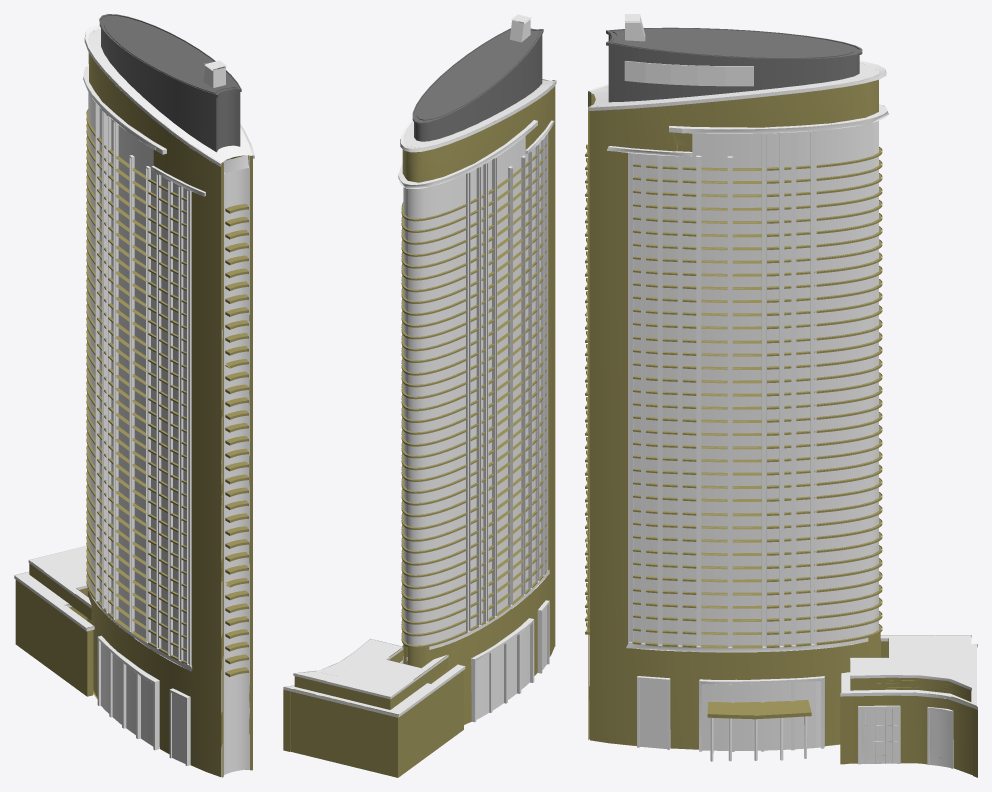
Rendered from address_mall.glb.
3 views of the same model, side by side, from view 1: azimuth 30°, elevation 25°; view 2: azimuth 150°, elevation 25°; view 3: azimuth 270°, elevation 25° (orthographic). The views are drawn at different scales.
Parts seen in each view (by area): view 1: Address Mall_02 - Default_0, Address Mall_Glass_0, Address Mall_Material #5392_0, Address Mall_Material #5416_0, Address Mall_Roof_0, Address Mall_14 - Default_0, Address Mall_02 - Default_0.001; view 2: Address Mall_Glass_0, Address Mall_02 - Default_0, Address Mall_Material #5392_0, Address Mall_Roof_0, Address Mall_Material #5416_0, Address Mall_02 - Default_0.001, Address Mall_14 - Default_0; view 3: Address Mall_Glass_0, Address Mall_02 - Default_0, Address Mall_Material #5392_0, Address Mall_Material #5416_0, Address Mall_Roof_0, Address Mall_14 - Default_0, Address Mall_13 - Default_0, Address Mall_Material #6408_0, Address Mall_02 - Default_0.001, Address Mall_Pillars_0.
Part boxes in pixels (left/top/right/bottom): Address Mall_02 - Default_0: left=15, top=52, right=252, bottom=777; Address Mall_Glass_0: left=88, top=93, right=251, bottom=776; Address Mall_Material #5392_0: left=84, top=25, right=254, bottom=666; Address Mall_Material #5416_0: left=99, top=14, right=241, bottom=152; Address Mall_Roof_0: left=14, top=29, right=252, bottom=671; Address Mall_14 - Default_0: left=97, top=635, right=190, bottom=765; Address Mall_02 - Default_0.001: left=86, top=259, right=95, bottom=419; Address Mall_Glass_0: left=403, top=136, right=546, bottom=719; Address Mall_02 - Default_0: left=283, top=80, right=555, bottom=777; Address Mall_Material #5392_0: left=400, top=80, right=556, bottom=632; Address Mall_Roof_0: left=283, top=14, right=554, bottom=717; Address Mall_Material #5416_0: left=412, top=28, right=543, bottom=141; Address Mall_02 - Default_0.001: left=401, top=341, right=467, bottom=480; Address Mall_14 - Default_0: left=316, top=600, right=549, bottom=722; Address Mall_Glass_0: left=589, top=92, right=878, bottom=750; Address Mall_02 - Default_0: left=585, top=79, right=977, bottom=777; Address Mall_Material #5392_0: left=588, top=60, right=886, bottom=648; Address Mall_Material #5416_0: left=606, top=27, right=862, bottom=102; Address Mall_Roof_0: left=590, top=14, right=977, bottom=709; Address Mall_14 - Default_0: left=637, top=676, right=953, bottom=768; Address Mall_13 - Default_0: left=861, top=707, right=951, bottom=767; Address Mall_Material #6408_0: left=624, top=61, right=753, bottom=86; Address Mall_02 - Default_0.001: left=814, top=297, right=882, bottom=446; Address Mall_Pillars_0: left=710, top=715, right=807, bottom=761.
Size of the model in its own units: 27.21 by 139 by 69.16.
